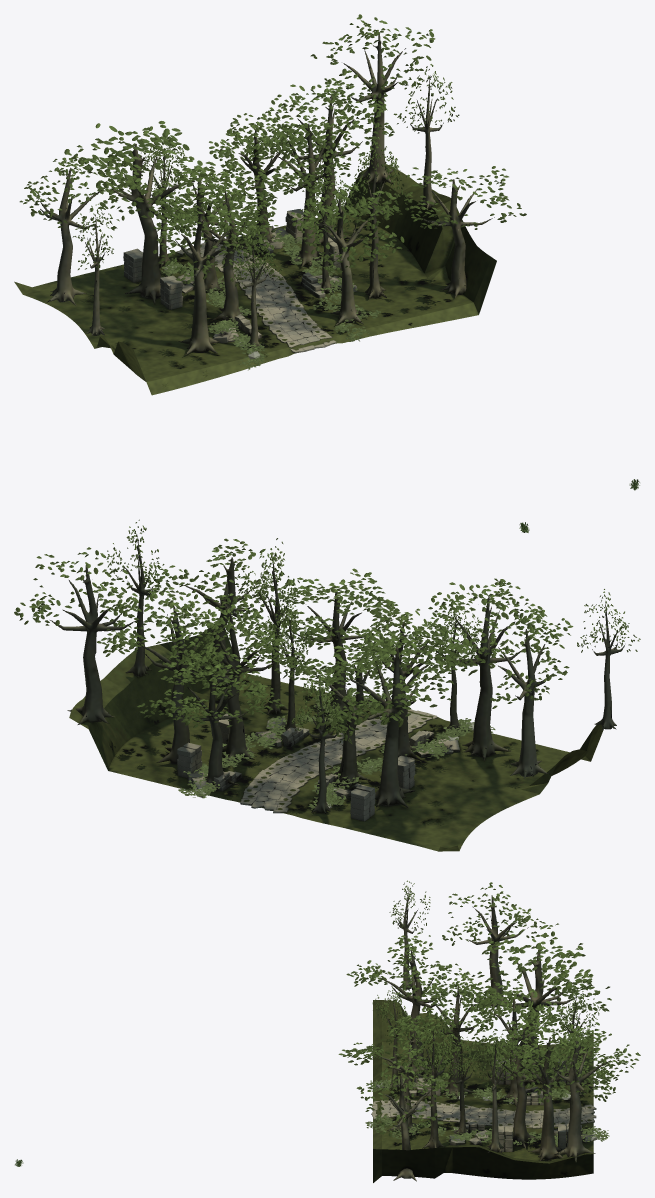
The model's file is forest-approach.glb.
The picture shows the model from 3 angles, top to bottom: view 1: azimuth 30°, elevation 25°; view 2: azimuth 150°, elevation 25°; view 3: azimuth 270°, elevation 25°; orthographic projection. The views are drawn at different scales.
Parts seen in each view (by area): view 1: ForestApproach_Foliage, ForestApproach_Ground, ForestApproach_Wood, ForestApproach_Stone, PD11_Foliage_forest-approach; view 2: ForestApproach_Foliage, ForestApproach_Ground, ForestApproach_Wood, ForestApproach_Stone, PD11_Foliage_forest-approach; view 3: ForestApproach_Foliage, ForestApproach_Ground, ForestApproach_Wood, ForestApproach_Stone, PD11_Foliage_forest-approach.
Part boxes in pixels (x1,y1,x2,y2): ForestApproach_Foliage: (19, 14, 526, 286); ForestApproach_Ground: (14, 164, 496, 395); ForestApproach_Wood: (35, 32, 494, 355); ForestApproach_Stone: (123, 209, 357, 353); PD11_Foliage_forest-approach: (161, 217, 380, 370); ForestApproach_Foliage: (14, 519, 640, 744); ForestApproach_Ground: (69, 628, 603, 851); ForestApproach_Wood: (50, 535, 624, 813); ForestApproach_Stone: (177, 709, 460, 821); PD11_Foliage_forest-approach: (178, 693, 495, 809); ForestApproach_Foliage: (338, 880, 640, 1136); ForestApproach_Ground: (373, 1000, 593, 1182); ForestApproach_Wood: (377, 889, 610, 1181); ForestApproach_Stone: (371, 1058, 596, 1151); PD11_Foliage_forest-approach: (365, 1076, 609, 1147).
Size of what is drawn, in the model's own units: 51.16 by 21.85 by 71.02.
10 materials, 3 textured.
